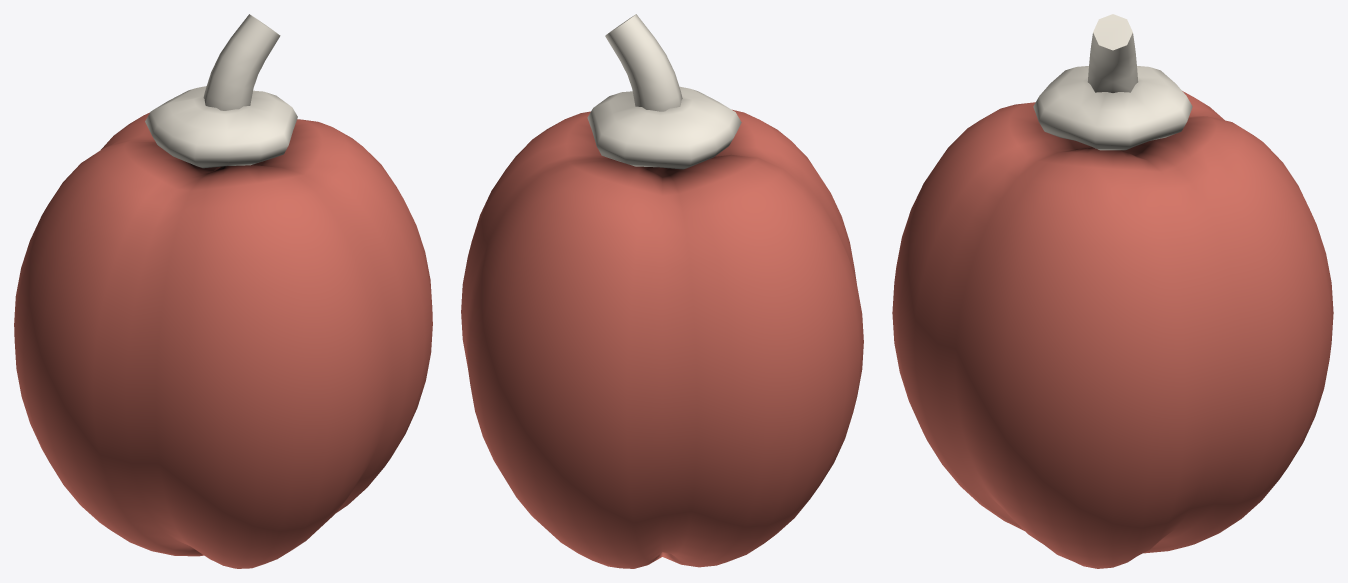
Rendered from food_pepper.glb.
3 views of the same model, side by side, from view 1: azimuth 30°, elevation 25°; view 2: azimuth 150°, elevation 25°; view 3: azimuth 270°, elevation 25° (orthographic). The views are drawn at different scales.
Parts seen in each view (by area): view 1: PART; view 2: PART; view 3: PART.
Part boxes in pixels (x1=…): PART: x1=14, y1=14, x2=432, y2=568; PART: x1=461, y1=14, x2=863, y2=568; PART: x1=892, y1=14, x2=1333, y2=568.
Bounding box in the file's own units: 0.0795 × 0.1097 × 0.0795.
